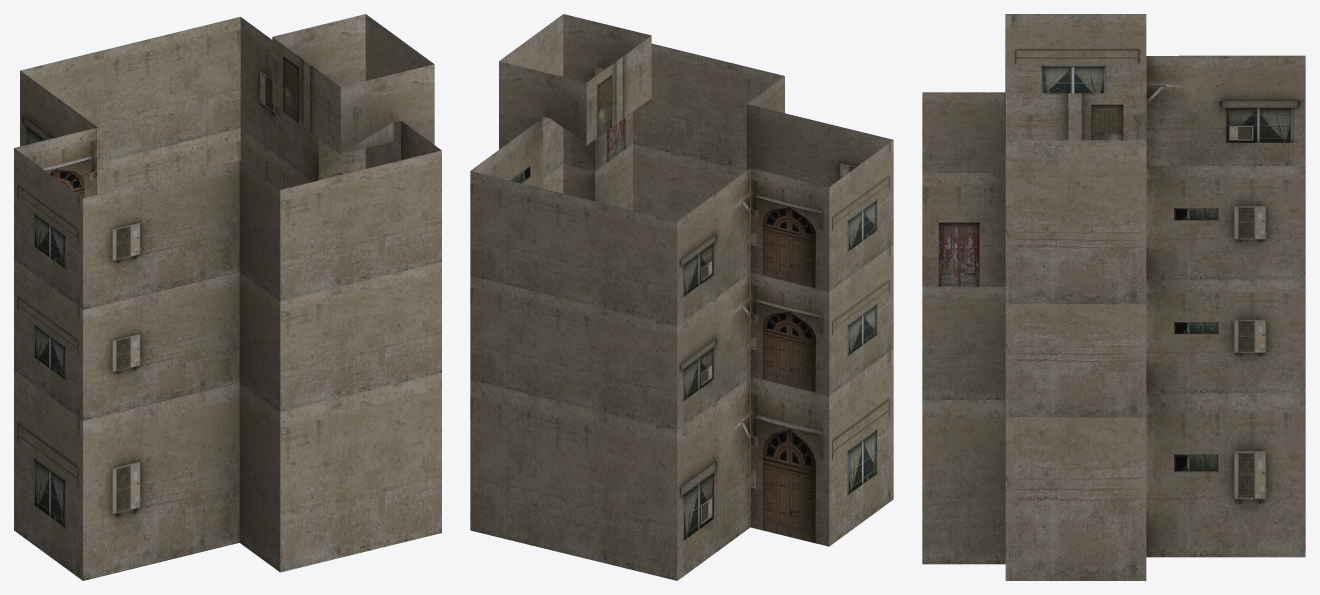
Rendered from building15.fbx.
3 renders of one model, left to right at view 1: azimuth 30°, elevation 25°; view 2: azimuth 150°, elevation 25°; view 3: azimuth 270°, elevation 25°, orthographic. The views are drawn at different scales.
Parts seen in each view (by area): view 1: polySurface423; view 2: polySurface423; view 3: polySurface423.
Part boxes in pixels (box(x1,y1,x2,y2)): polySurface423: box(14, 14, 441, 580); polySurface423: box(470, 14, 893, 580); polySurface423: box(922, 14, 1305, 580).
Bounding box in the file's own units: 1202 × 1408 × 1110.
1 material, 1 textured.
